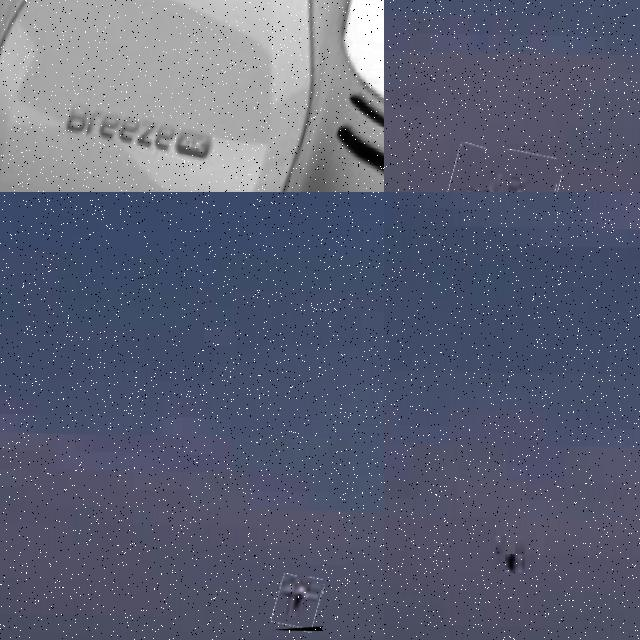0: (440, 147, 557, 192), (274, 576, 322, 630)
drone: (0, 0, 384, 192)
